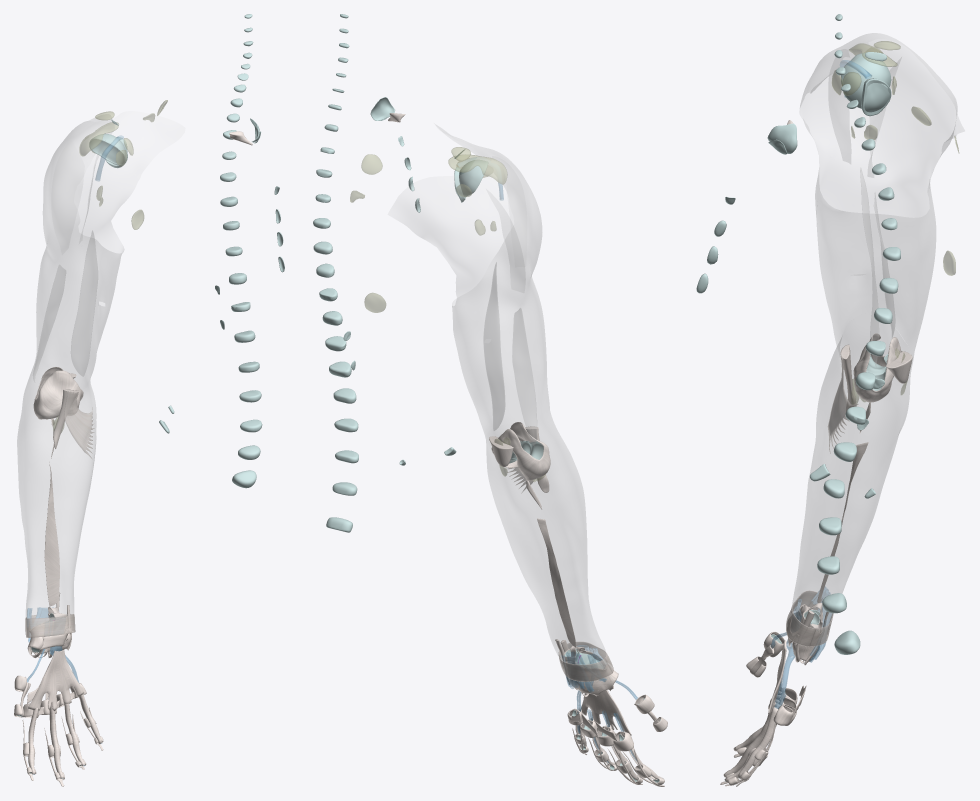
The model's file is aligned-upper-limb-connective-01.glb.
3 renders of one model, left to right at view 1: azimuth 30°, elevation 25°; view 2: azimuth 150°, elevation 25°; view 3: azimuth 270°, elevation 25°, orthographic. The views are drawn at different scales.
Parts seen in each view (by area): view 1: O3D_d7b7c3dfa354d4, O3D_45d6334d37f6a0, O3D_54730c3013f8bd, O3D_c33c7a5791e398, O3D_3f826c2acaa7b9, O3D_8c1b2c4b808df4, O3D_d51e6a39543dce, O3D_f1fb1a99a2a22c, O3D_1eef295a279e21, O3D_46514145045878, O3D_f22ecf541fef16, O3D_d5e1b5c07865a6 (+5 smaller); view 2: O3D_d7b7c3dfa354d4, O3D_45d6334d37f6a0, O3D_c33c7a5791e398, O3D_54730c3013f8bd, O3D_d5e1b5c07865a6, O3D_3f826c2acaa7b9, O3D_1eef295a279e21, O3D_f22ecf541fef16, O3D_57904ee582cf4c, O3D_f1fb1a99a2a22c, O3D_8c1b2c4b808df4, O3D_fb67bdd8f5fdc0 (+3 smaller); view 3: O3D_d7b7c3dfa354d4, O3D_45d6334d37f6a0, O3D_c33c7a5791e398, O3D_1eef295a279e21, O3D_97c4cf8d9b52ce, O3D_3f826c2acaa7b9, O3D_d51e6a39543dce, O3D_54730c3013f8bd, O3D_57904ee582cf4c, O3D_f22ecf541fef16, O3D_9ea7da766e1dd1, O3D_46514145045878 (+7 smaller).
Boxes of the visible parts, x1,y1,x2,y2 form: O3D_d7b7c3dfa354d4: (31, 111, 184, 391); O3D_45d6334d37f6a0: (17, 374, 96, 617); O3D_54730c3013f8bd: (71, 230, 97, 376); O3D_c33c7a5791e398: (220, 73, 255, 342); O3D_3f826c2acaa7b9: (33, 366, 83, 419); O3D_8c1b2c4b808df4: (28, 649, 84, 710); O3D_d51e6a39543dce: (28, 694, 102, 778); O3D_f1fb1a99a2a22c: (44, 461, 59, 606); O3D_1eef295a279e21: (232, 361, 262, 488); O3D_46514145045878: (64, 391, 94, 458); O3D_f22ecf541fef16: (27, 607, 71, 658); O3D_d5e1b5c07865a6: (33, 265, 65, 381); O3D_d7b7c3dfa354d4: (388, 124, 553, 448); O3D_45d6334d37f6a0: (486, 422, 605, 663); O3D_c33c7a5791e398: (313, 88, 351, 377); O3D_54730c3013f8bd: (483, 262, 505, 430); O3D_d5e1b5c07865a6: (512, 308, 536, 445); O3D_3f826c2acaa7b9: (491, 422, 550, 481); O3D_1eef295a279e21: (326, 388, 358, 532); O3D_f22ecf541fef16: (562, 646, 618, 696); O3D_57904ee582cf4c: (567, 694, 654, 751); O3D_f1fb1a99a2a22c: (537, 518, 575, 647); O3D_8c1b2c4b808df4: (581, 690, 631, 735); O3D_fb67bdd8f5fdc0: (448, 155, 507, 184); O3D_d7b7c3dfa354d4: (800, 33, 964, 372); O3D_45d6334d37f6a0: (792, 336, 912, 628); O3D_c33c7a5791e398: (833, 99, 900, 461); O3D_1eef295a279e21: (817, 479, 860, 654); O3D_97c4cf8d9b52ce: (841, 52, 891, 108); O3D_3f826c2acaa7b9: (853, 333, 901, 402); O3D_d51e6a39543dce: (723, 691, 781, 782); O3D_54730c3013f8bd: (860, 168, 878, 366); O3D_57904ee582cf4c: (763, 631, 797, 725); O3D_f22ecf541fef16: (787, 603, 822, 663); O3D_9ea7da766e1dd1: (786, 590, 816, 646); O3D_46514145045878: (827, 348, 858, 453).
Bounding box in the file's own units: 0.3455 × 0.8177 × 0.2168.
Materials: 13 (7 with a texture image).
